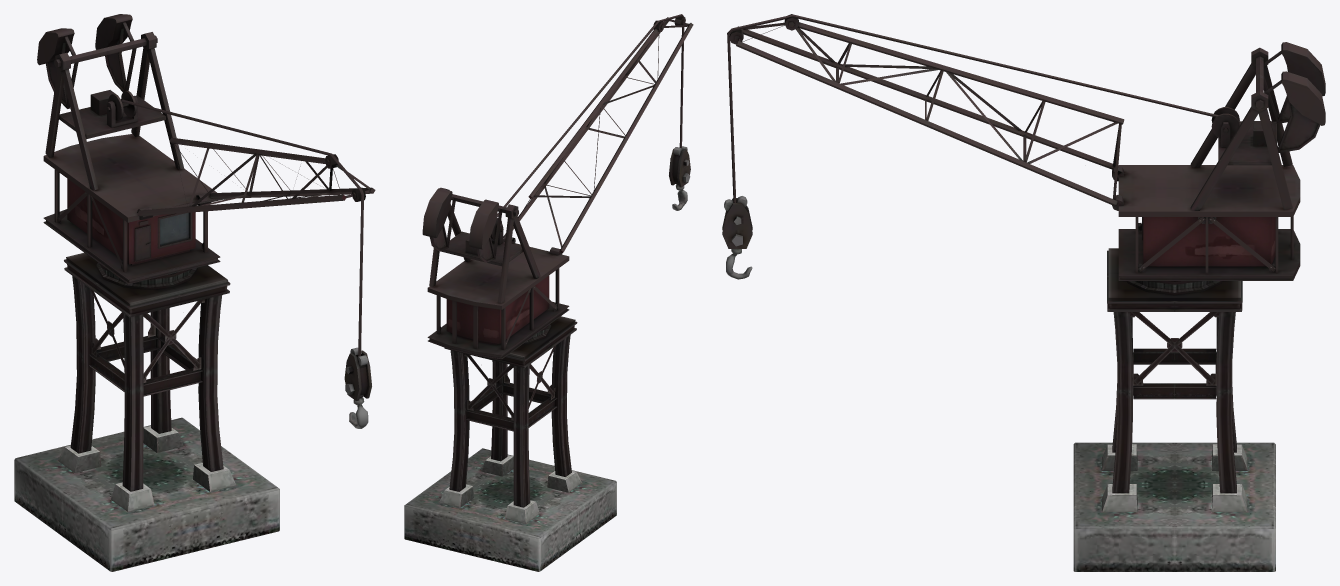
3 views of the same model, side by side, from view 1: azimuth 30°, elevation 25°; view 2: azimuth 150°, elevation 25°; view 3: azimuth 270°, elevation 25° (orthographic). The views are drawn at different scales.
Visible parts, largest first — view 1: body0_model0_lod0_mesh0; view 2: body0_model0_lod0_mesh0; view 3: body0_model0_lod0_mesh0.
Boxes of the visible parts, x1,y1,x2,y2 form: body0_model0_lod0_mesh0: (14,14,375,571); body0_model0_lod0_mesh0: (404,14,693,571); body0_model0_lod0_mesh0: (722,14,1325,571).
Bounding box in the file's own units: 512 × 1438 × 1528.
1 material, 1 textured.
